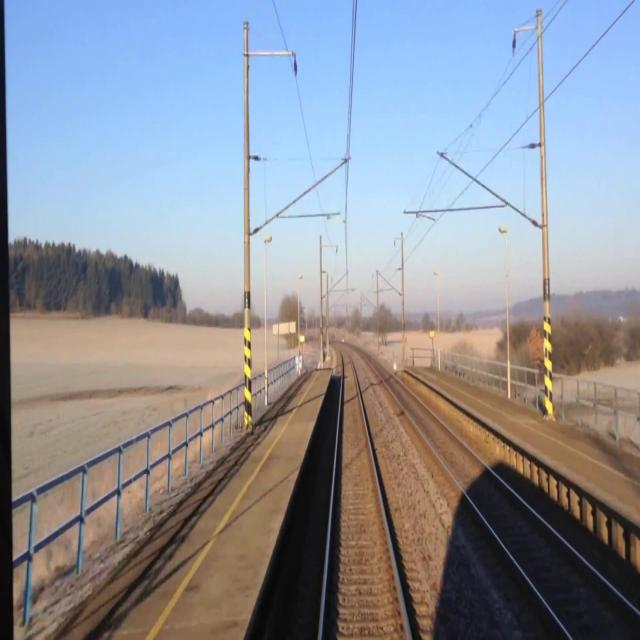rail-track: (322, 351, 407, 639)
